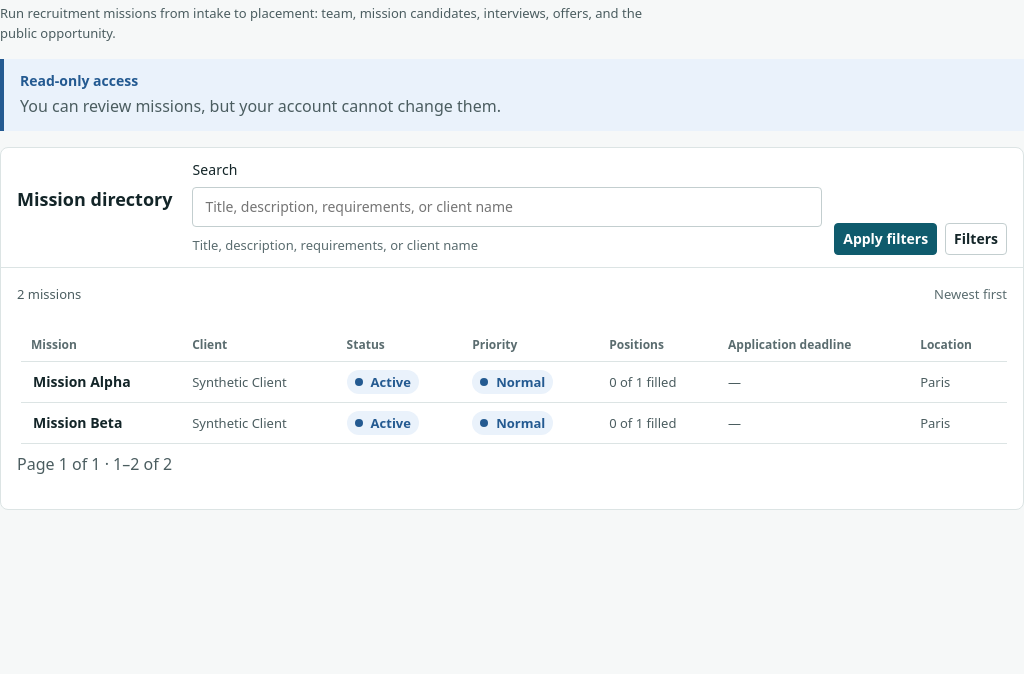
Test: Missions detail navigation (#118) › names the Overview panel without a missing tab when navigation is omitted
The width and height of the screenshot is (1024, 674).
What coordinates should you click on to do the following:
click the button "Mission Alpha"
I would click on:
 (82, 382)
Its box is [33,373,131,391].
(page scrolled)
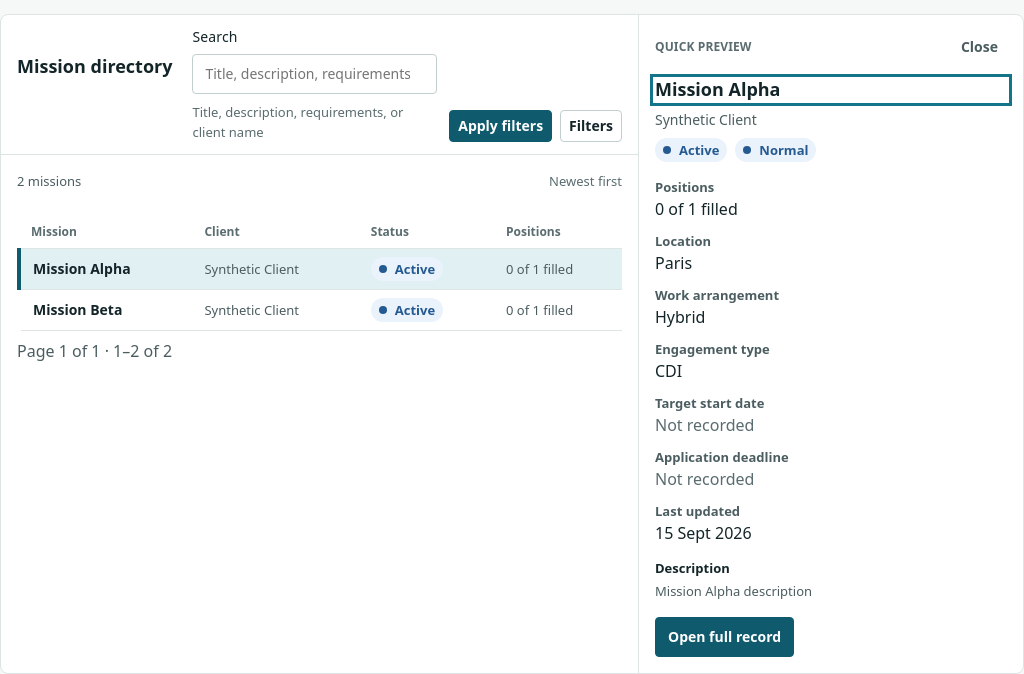
What coordinates should you click on to do the following:
click the button "Open full record"
I would click on:
 (725, 637)
Its box is [655,617,794,657].
(page scrolled)
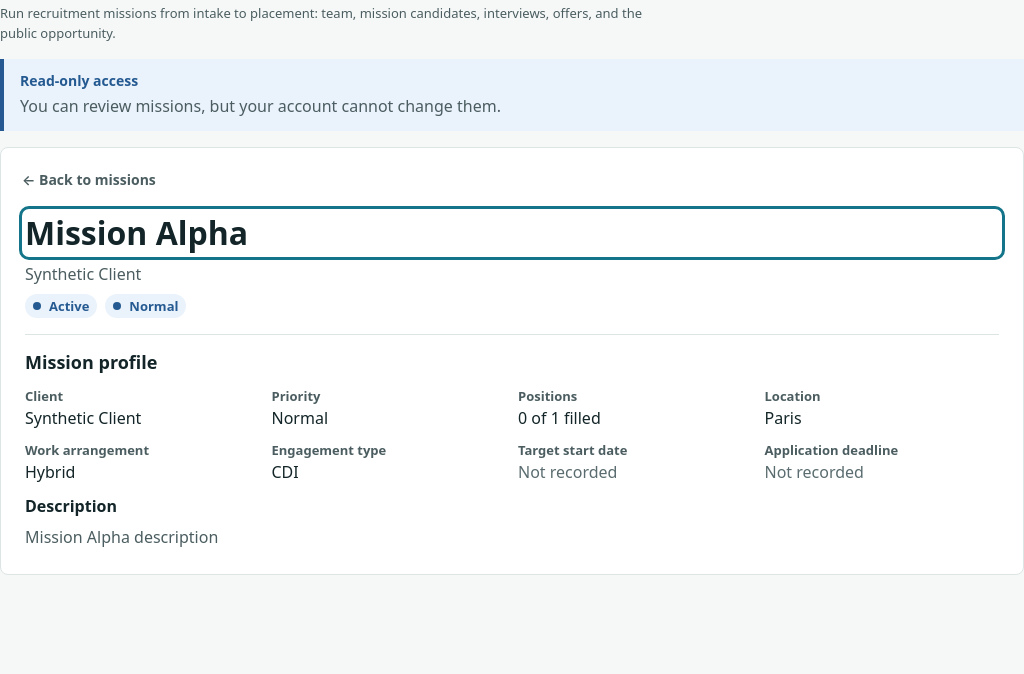
Expected: the element named "Overview" is shown, [25,334,999,550]
Expected: the heading "Mission profile" is shown, [25,351,157,375]
